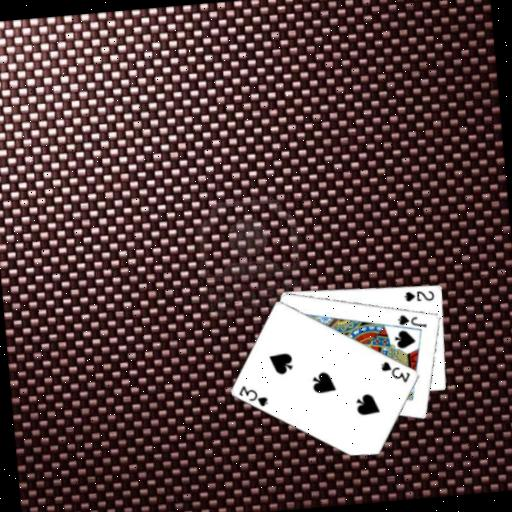2S: (401, 287, 436, 305)
3S: (377, 356, 413, 386), (235, 381, 271, 411)
JS: (395, 310, 429, 331)
